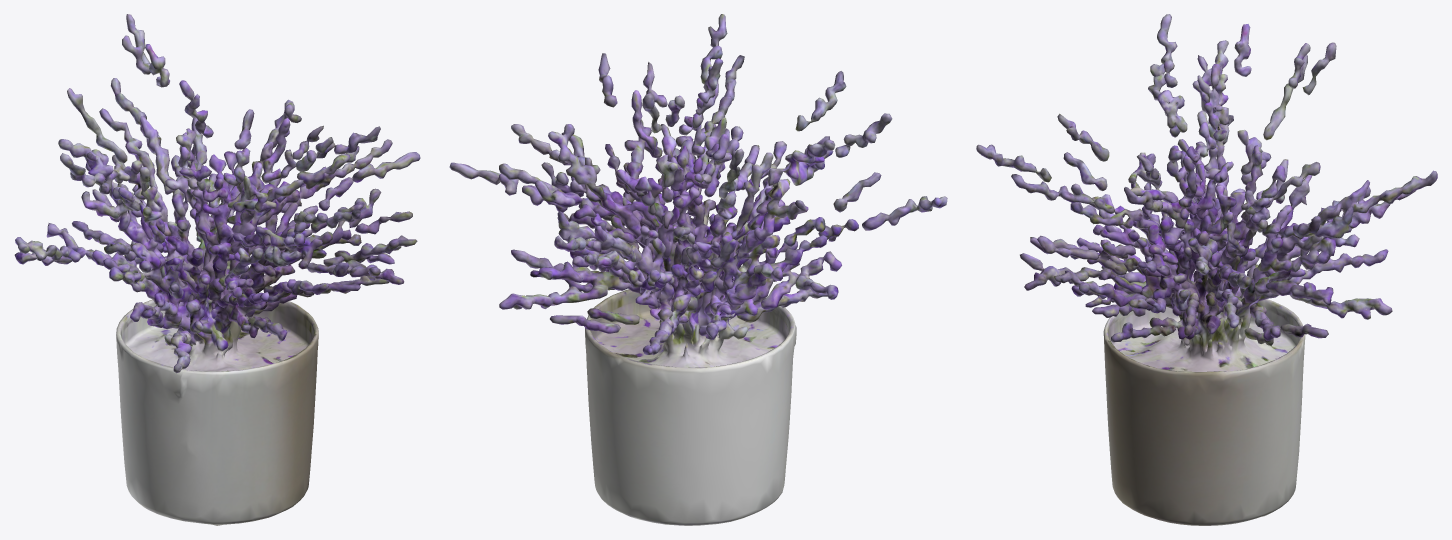
File: Lavendar.glb
The picture shows the model from 3 angles, left to right: view 1: azimuth 30°, elevation 25°; view 2: azimuth 150°, elevation 25°; view 3: azimuth 270°, elevation 25°; orthographic projection. The views are drawn at different scales.
Bounding box in the file's own units: 1.97 × 1.91 × 1.79.
1 material, 1 textured.
